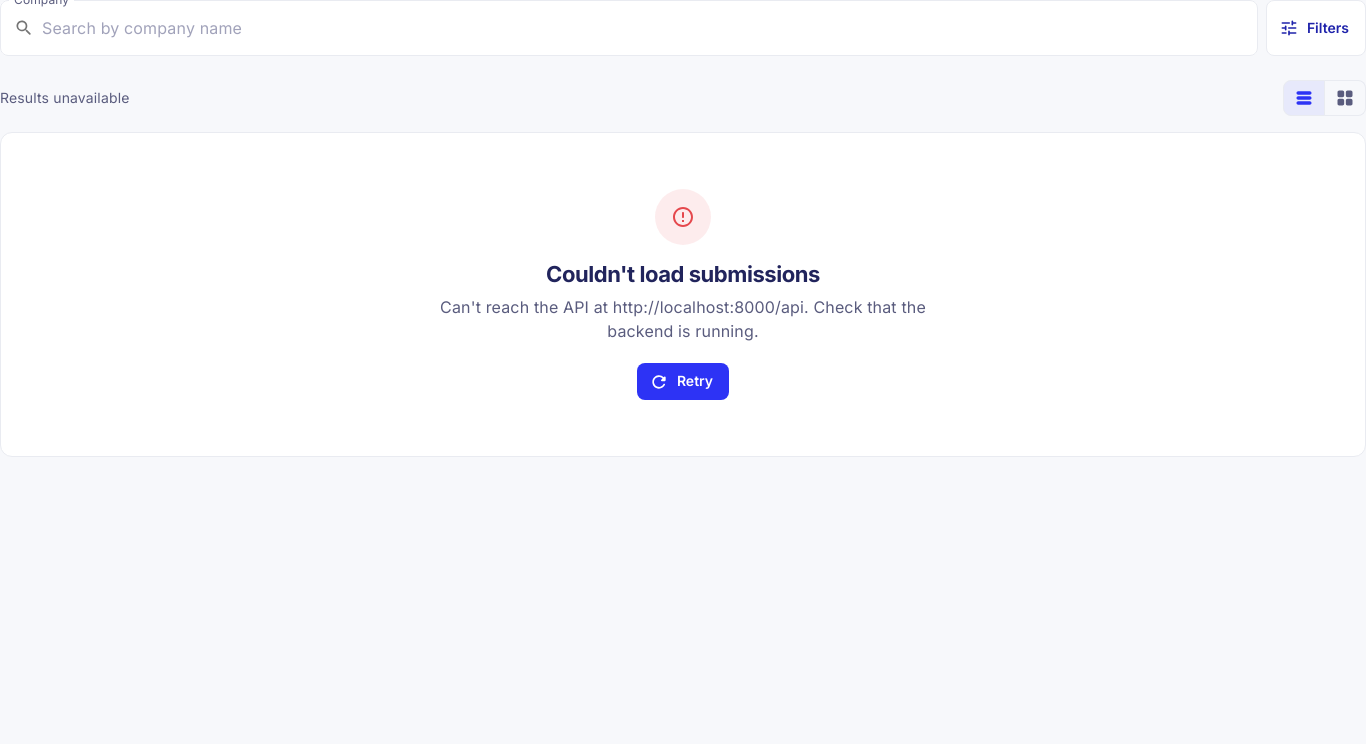
Test: SubmissionsWorkspace › shows a retryable error when the API is unreachable
expect the message shows "Couldn't load submissions": met, box x1=546 y1=261 x2=820 y2=287
Click the button "Retry" at point(683, 382), box x1=637 y1=363 x2=729 y2=400
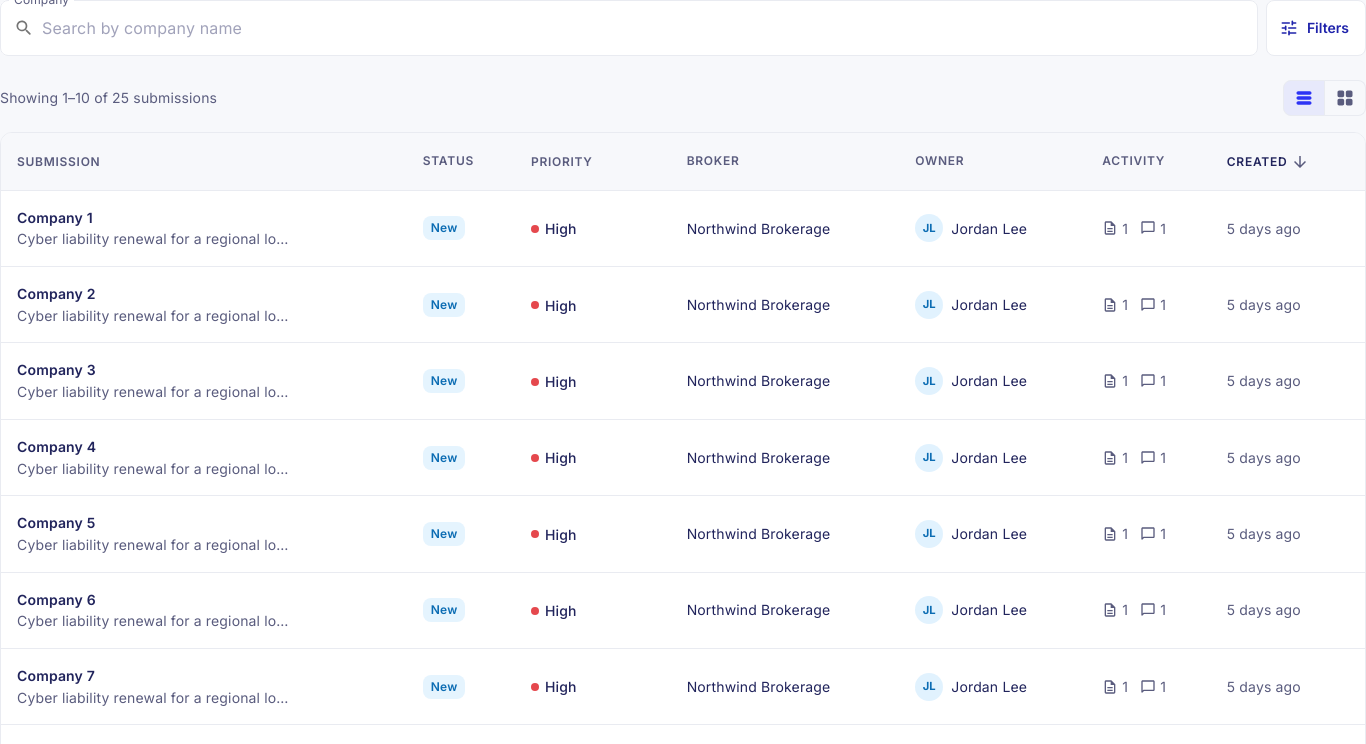
expect the link "Company 1" is shown: met, box x1=17 y1=207 x2=93 y2=228
